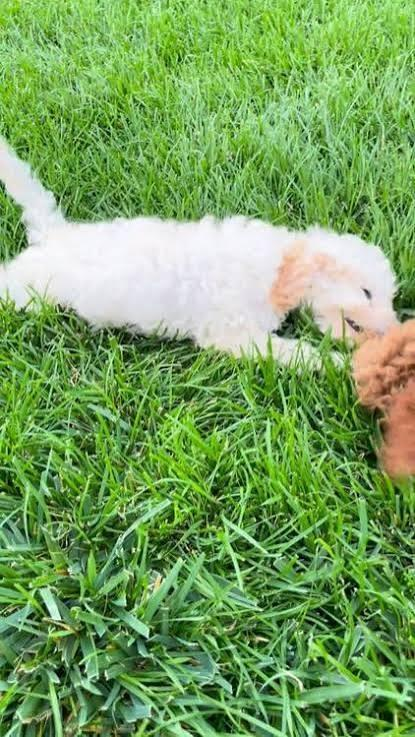puppy-dog: (1, 137, 402, 364), (351, 317, 415, 478)
